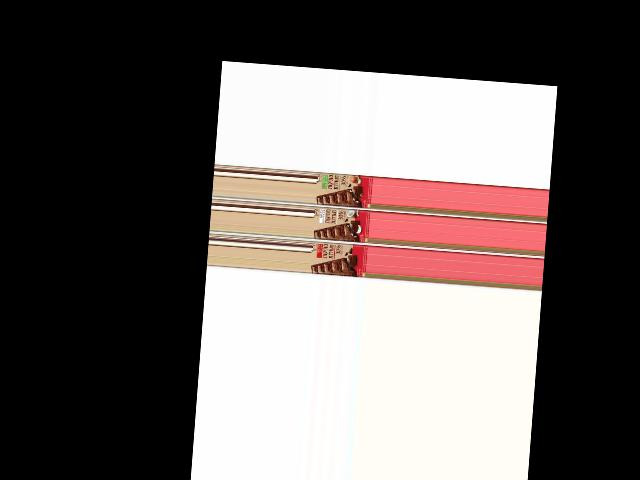chocolate: (315, 170, 373, 207)
